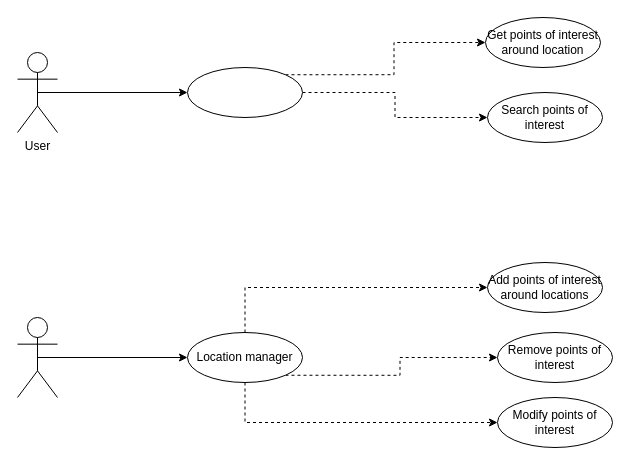
Some shapes in this 630 by 465 pixel diagram are drawn without their labels. The shapes that lost their labels are listed below. From the top down, each one's box as (x1, y1, x2, y2) in pixels, then its label:
(186, 66, 302, 118): Location access
(16, 316, 58, 398): Admin
